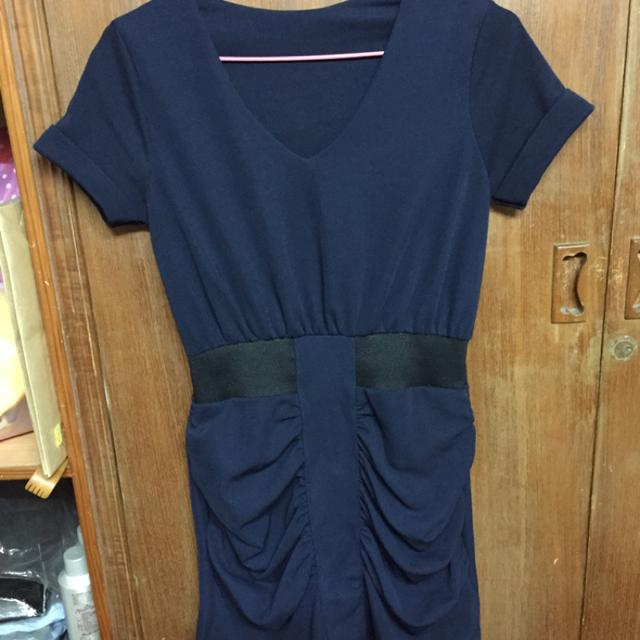Dresses: (60, 2, 588, 638)
